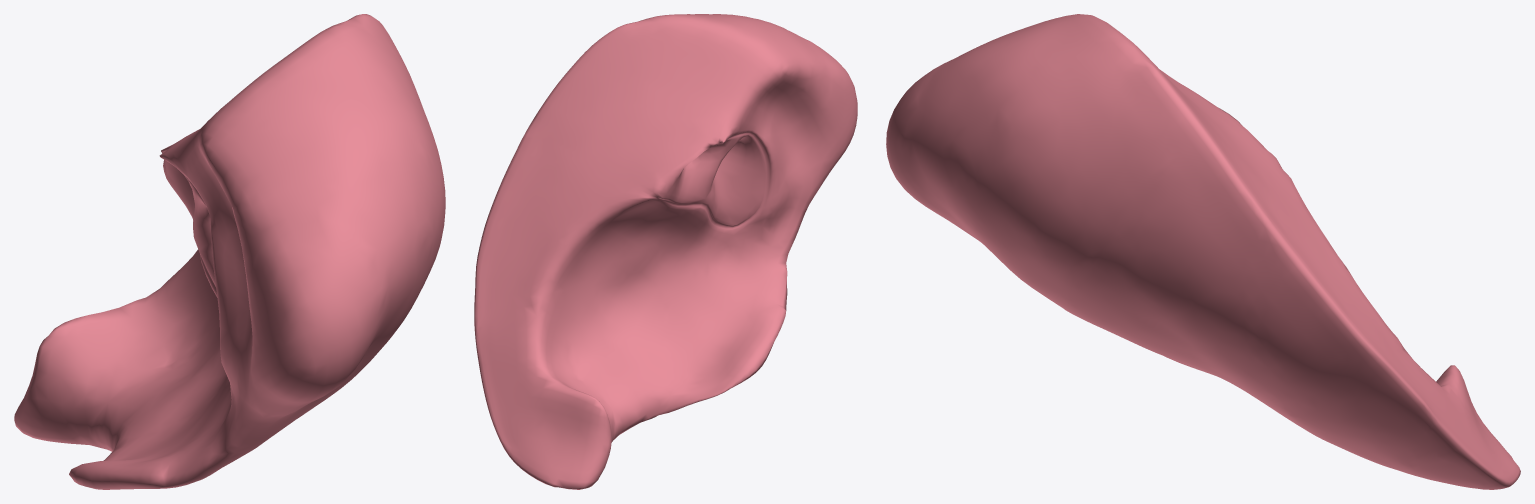
3 views of the same model, side by side, from view 1: azimuth 30°, elevation 25°; view 2: azimuth 150°, elevation 25°; view 3: azimuth 270°, elevation 25° (orthographic). The views are drawn at different scales.
Parts seen in each view (by area): view 1: 左肺上叶; view 2: 左肺上叶; view 3: 左肺上叶.
Boxes of the visible parts, x1,y1,x2,y2 form: 左肺上叶: [14, 14, 445, 489]; 左肺上叶: [474, 14, 857, 489]; 左肺上叶: [886, 14, 1520, 489].
Size of the model in its own units: 0.1682 by 0.2516 by 0.3116.
